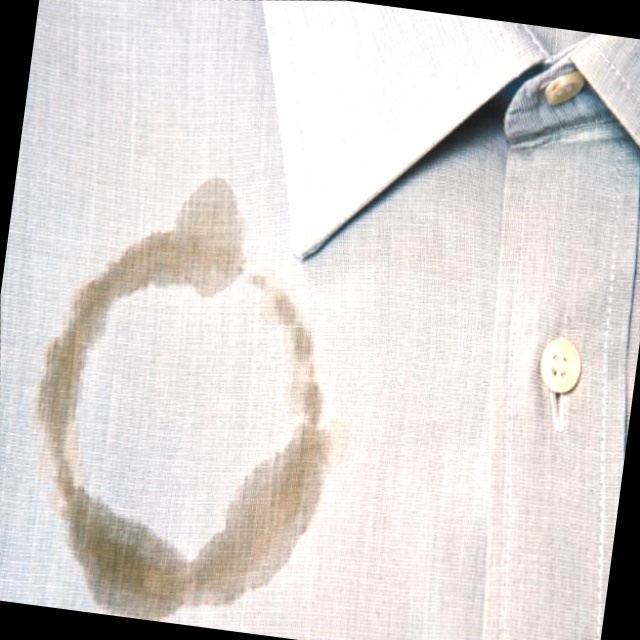coffee: (184, 419, 346, 630), (117, 181, 257, 309), (29, 267, 116, 445), (69, 507, 190, 623)
